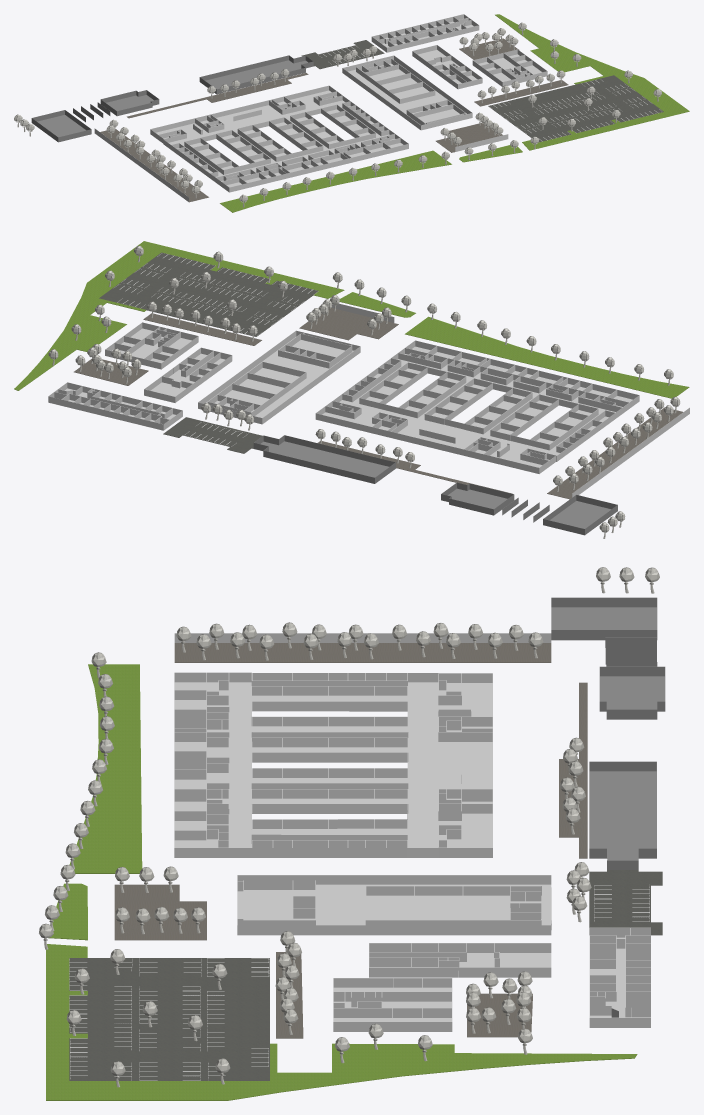
The model's file is floor_0.glb.
3 renders of one model, top to bottom at view 1: azimuth 30°, elevation 25°; view 2: azimuth 150°, elevation 25°; view 3: azimuth 270°, elevation 25°, orthographic. The views are drawn at different scales.
Parts seen in each view (by area): view 1: room_1_1, room_130_130, room_126_126, Tree_temp_climate_006_5626, room_123_123, room_127_127, 5700; view 2: room_1_1, room_130_130, room_126_126, Tree_temp_climate_006_5626, room_123_123, room_127_127, 5700; view 3: room_1_1, room_126_126, room_130_130, Tree_temp_climate_006_5626, room_123_123, room_127_127, 5700.
Boxes of the visible parts, left/top/right/bottom form: room_1_1: left=94, top=14, right=547, bottom=201; room_130_130: left=220, top=14, right=689, bottom=212; room_126_126: left=301, top=40, right=663, bottom=142; Tree_temp_climate_006_5626: left=14, top=22, right=661, bottom=207; room_123_123: left=31, top=55, right=313, bottom=142; room_127_127: left=100, top=38, right=568, bottom=202; 5700: left=318, top=46, right=659, bottom=141; room_1_1: left=48, top=303, right=689, bottom=497; room_130_130: left=14, top=241, right=689, bottom=398; room_126_126: left=99, top=252, right=318, bottom=453; Tree_temp_climate_006_5626: left=48, top=245, right=680, bottom=538; room_123_123: left=253, top=435, right=617, bottom=535; room_127_127: left=74, top=308, right=682, bottom=499; 5700: left=114, top=253, right=318, bottom=446; room_1_1: left=174, top=633, right=650, bottom=1031; room_126_126: left=69, top=870, right=662, bottom=1080; room_130_130: left=46, top=664, right=637, bottom=1100; Tree_temp_climate_006_5626: left=39, top=567, right=659, bottom=1087; room_123_123: left=551, top=597, right=665, bottom=869; room_127_127: left=114, top=643, right=587, bottom=1038; 5700: left=69, top=885, right=649, bottom=1080.
Size of the model in its own units: 28701 by 660 by 14847.
7 materials, 3 textured.
